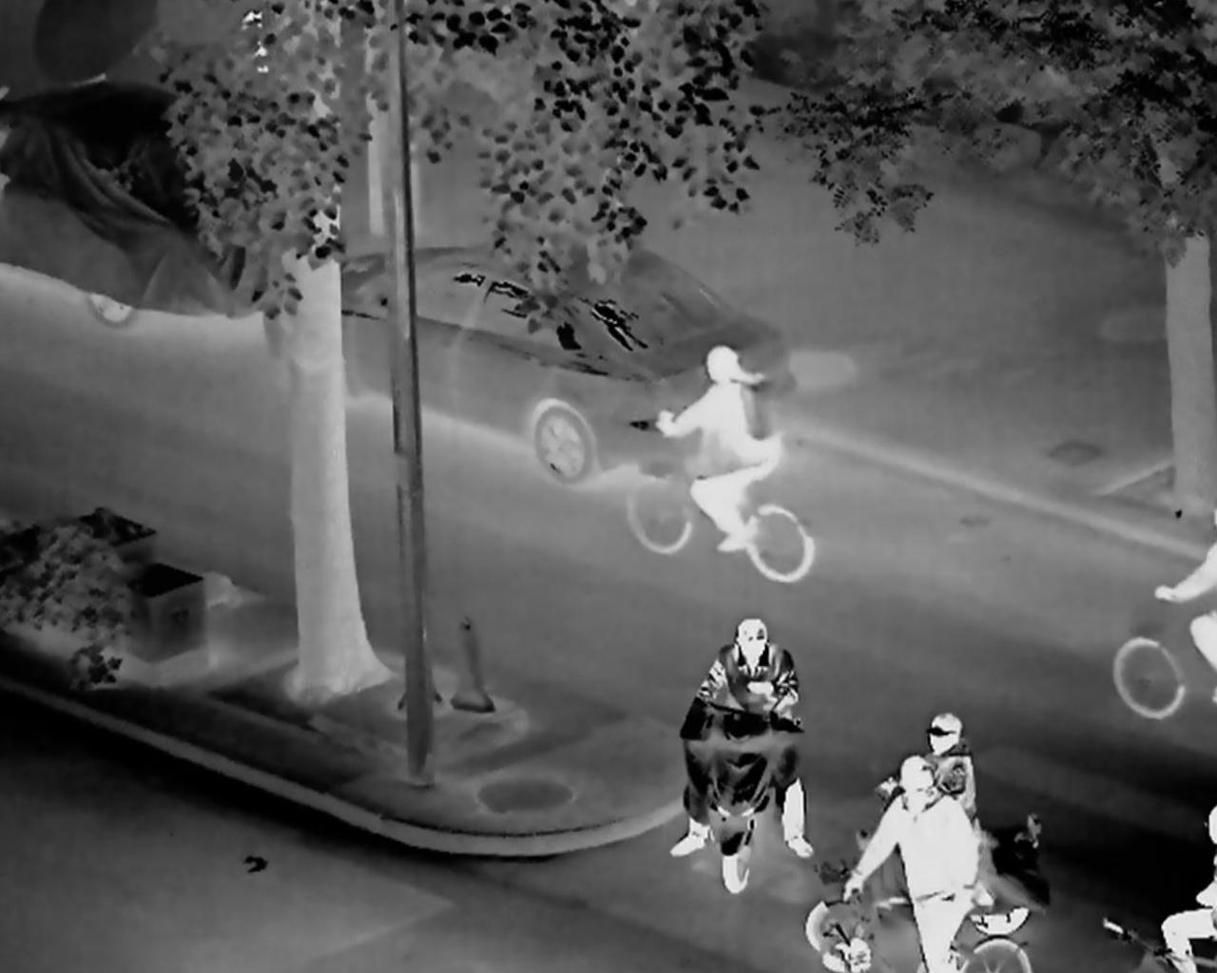person: (662, 607, 834, 882), (636, 335, 802, 552), (850, 763, 988, 973), (883, 707, 993, 848), (1150, 506, 1217, 696), (1158, 795, 1216, 973)
